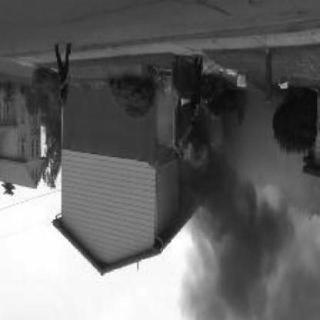Fire: (163, 93, 216, 171)
Smoke: (182, 175, 314, 317)
